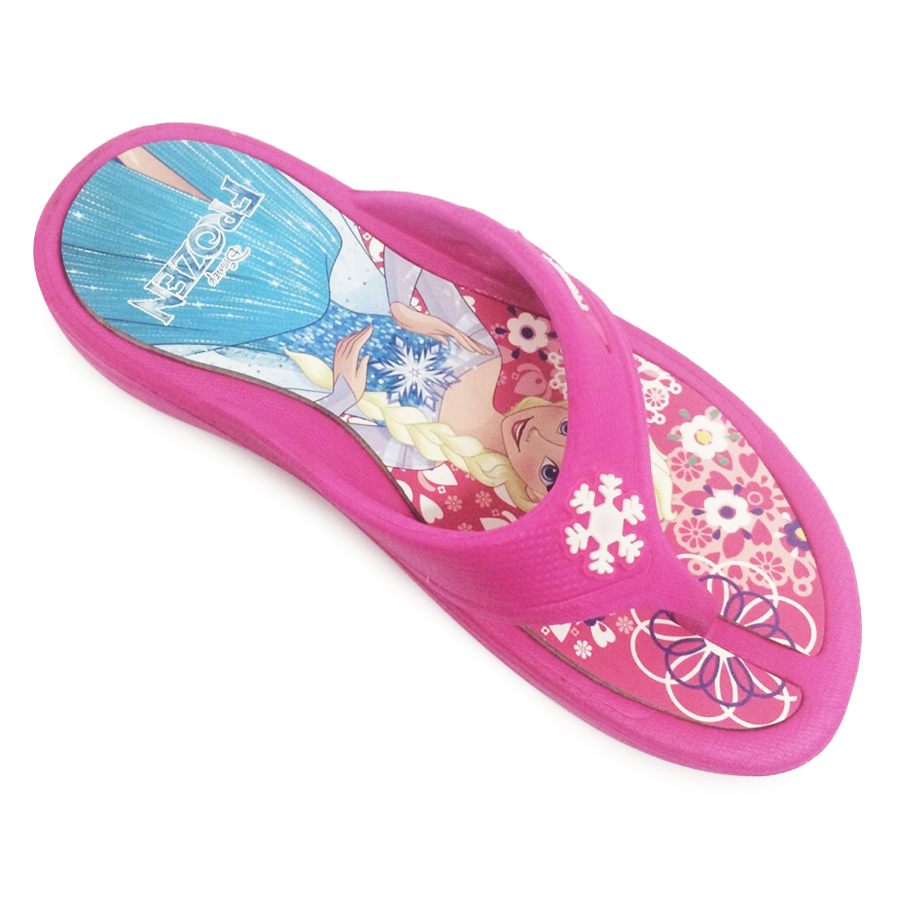Disney: (203, 233, 259, 300)
